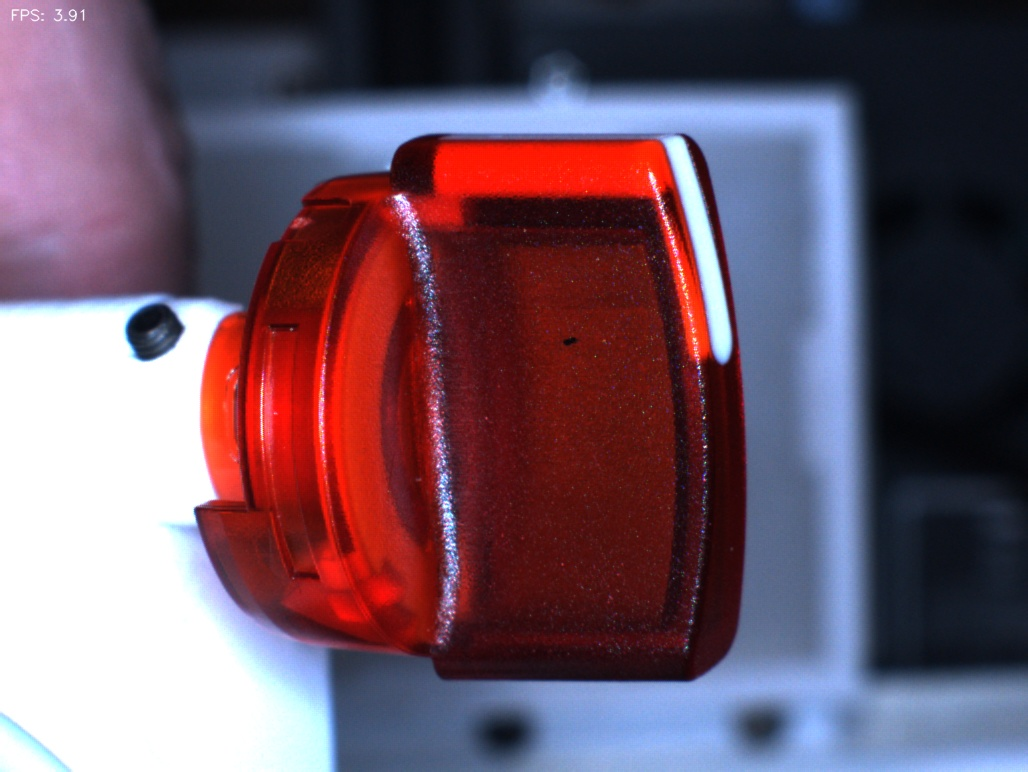PointNoir: (531, 298, 615, 378)
